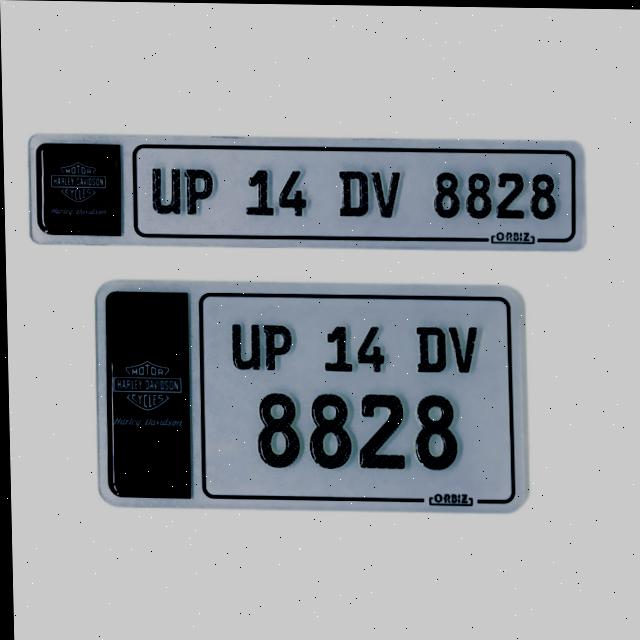plate: (89, 275, 531, 521), (25, 130, 596, 255)
